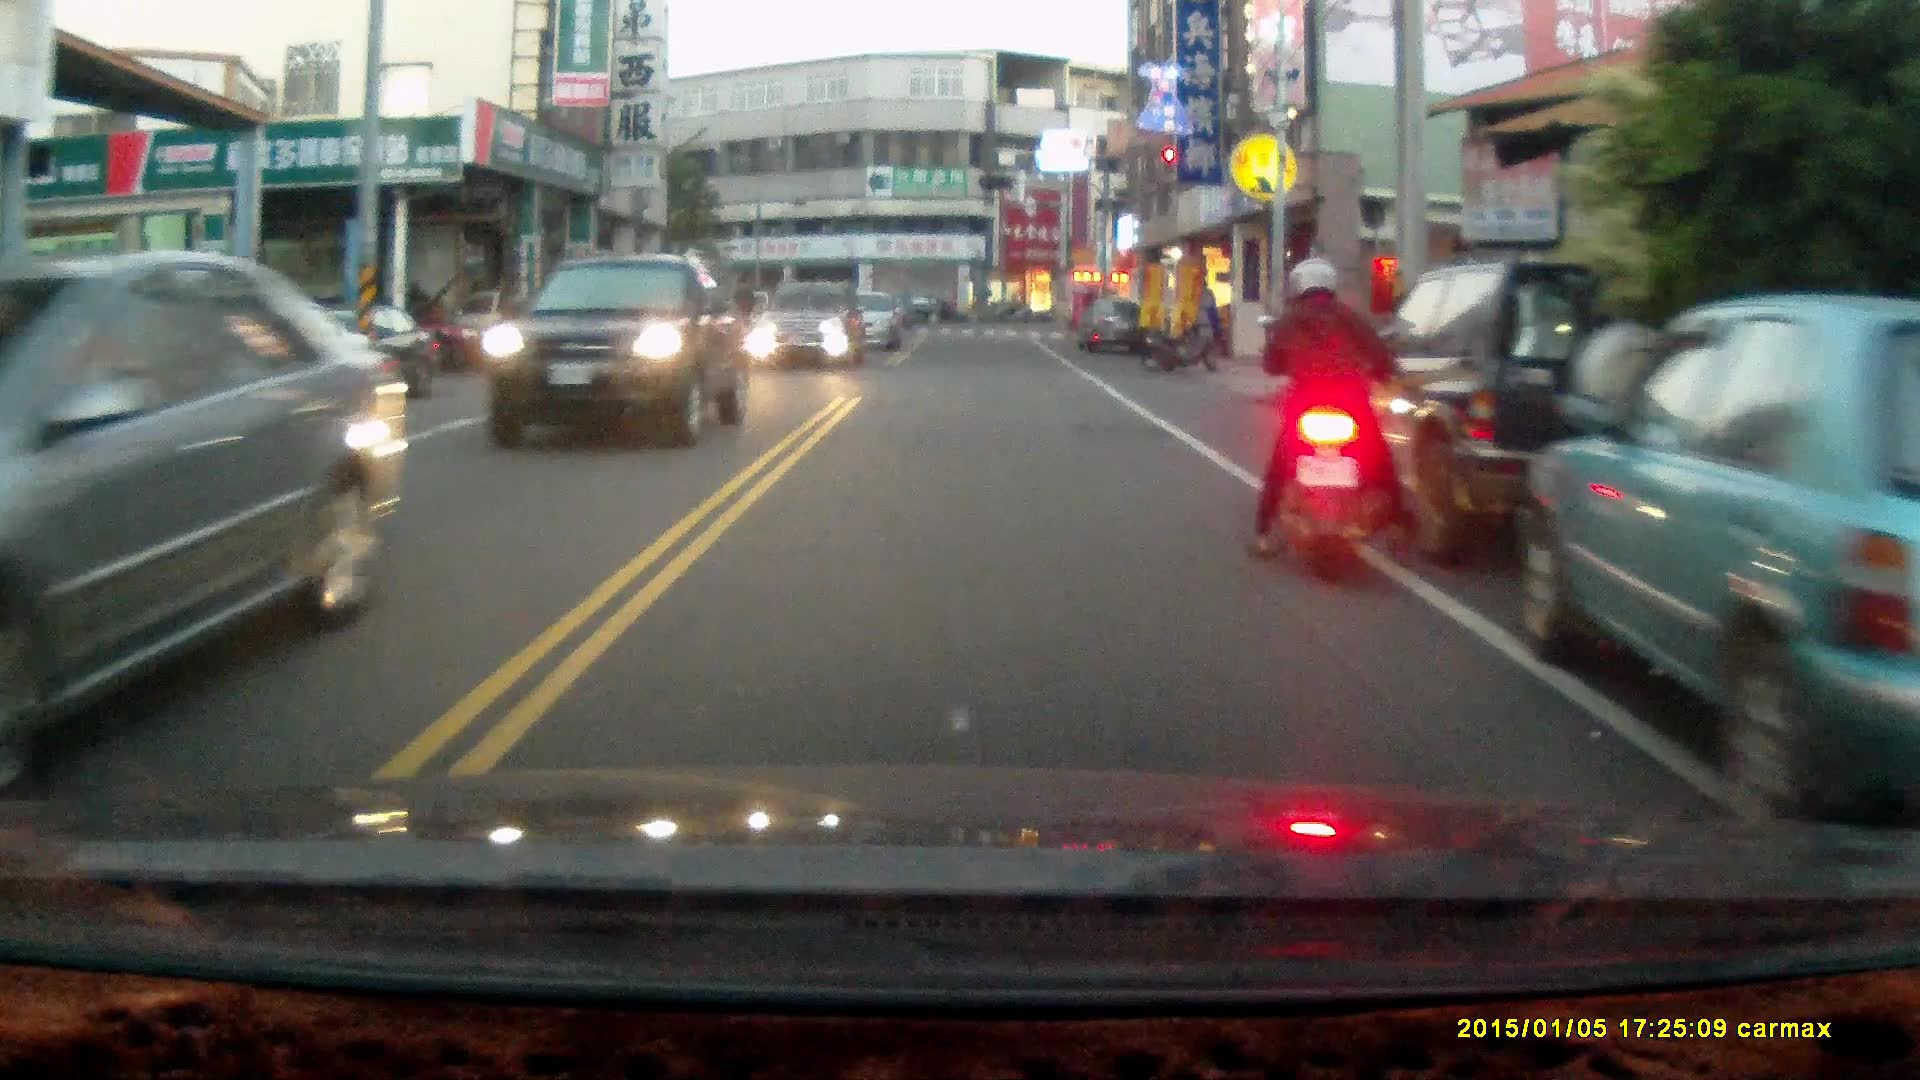rider: (1247, 255, 1418, 586)
vehicle: (1, 250, 421, 793), (1515, 291, 1920, 837), (1312, 255, 1740, 572), (484, 253, 745, 445), (742, 285, 876, 374), (1077, 297, 1149, 356)
